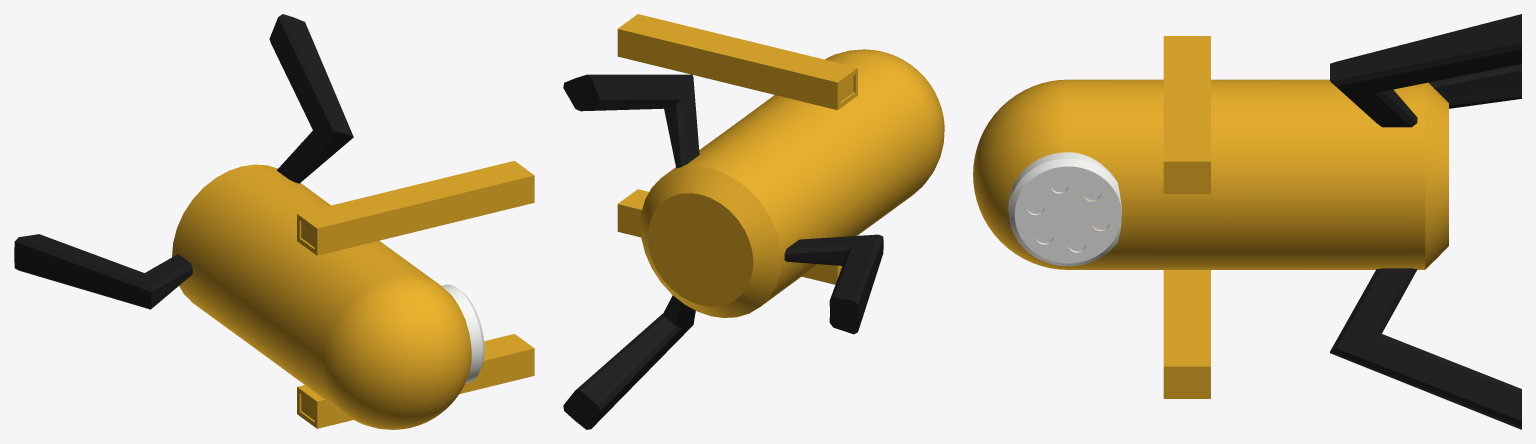
The model's file is Crewmate #6.fbx.
3 views of the same model, side by side, from view 1: azimuth 30°, elevation 25°; view 2: azimuth 150°, elevation 25°; view 3: azimuth 270°, elevation 25° (orthographic). The views are drawn at different scales.
Visible parts, largest first — view 1: Body1, Body3, Body5, Body6, Body4, Body2; view 2: Body1, Body3, Body6, Body7, Body5, Body4; view 3: Body1, Body6, Body7, Body2, Body3, Body4, Body5.
Boxes of the visible parts, x1,y1,x2,y2 form: Body1: (172, 164, 471, 429); Body3: (297, 161, 534, 255); Body5: (14, 234, 192, 309); Body6: (269, 14, 353, 183); Body4: (297, 334, 534, 428); Body2: (442, 284, 484, 383); Body1: (640, 49, 944, 317); Body3: (617, 14, 857, 110); Body6: (563, 74, 699, 168); Body7: (563, 295, 695, 429); Body5: (784, 234, 883, 334); Body4: (617, 189, 842, 284); Body1: (973, 79, 1448, 269); Body6: (1330, 14, 1521, 127); Body7: (1330, 268, 1521, 429); Body2: (1008, 152, 1121, 266); Body3: (1163, 36, 1210, 193); Body4: (1163, 270, 1210, 398); Body5: (1428, 64, 1521, 108).
Size of the model in its own units: 2121 by 1926 by 2306.
